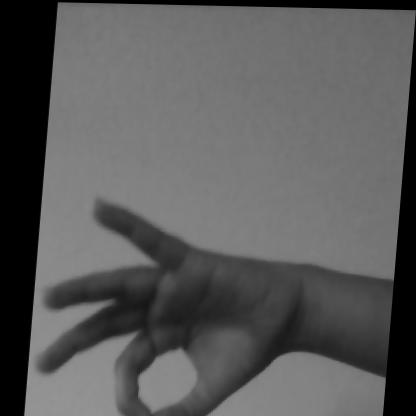ok: (36, 184, 367, 415)
